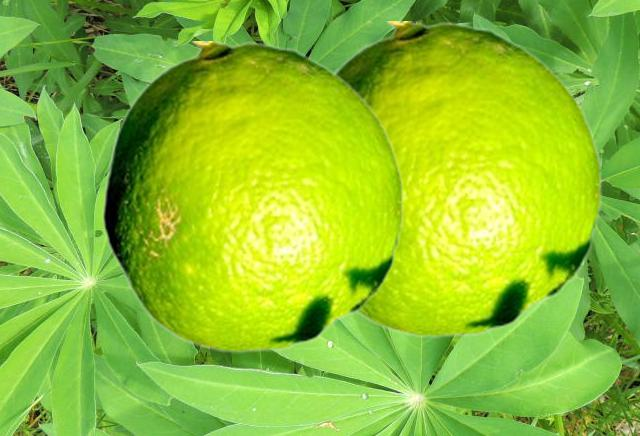dalandan: (102, 41, 403, 352), (333, 21, 601, 337)
